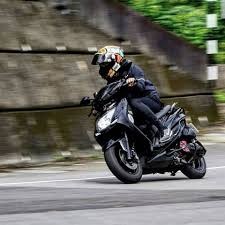helmet: (93, 45, 125, 75)
